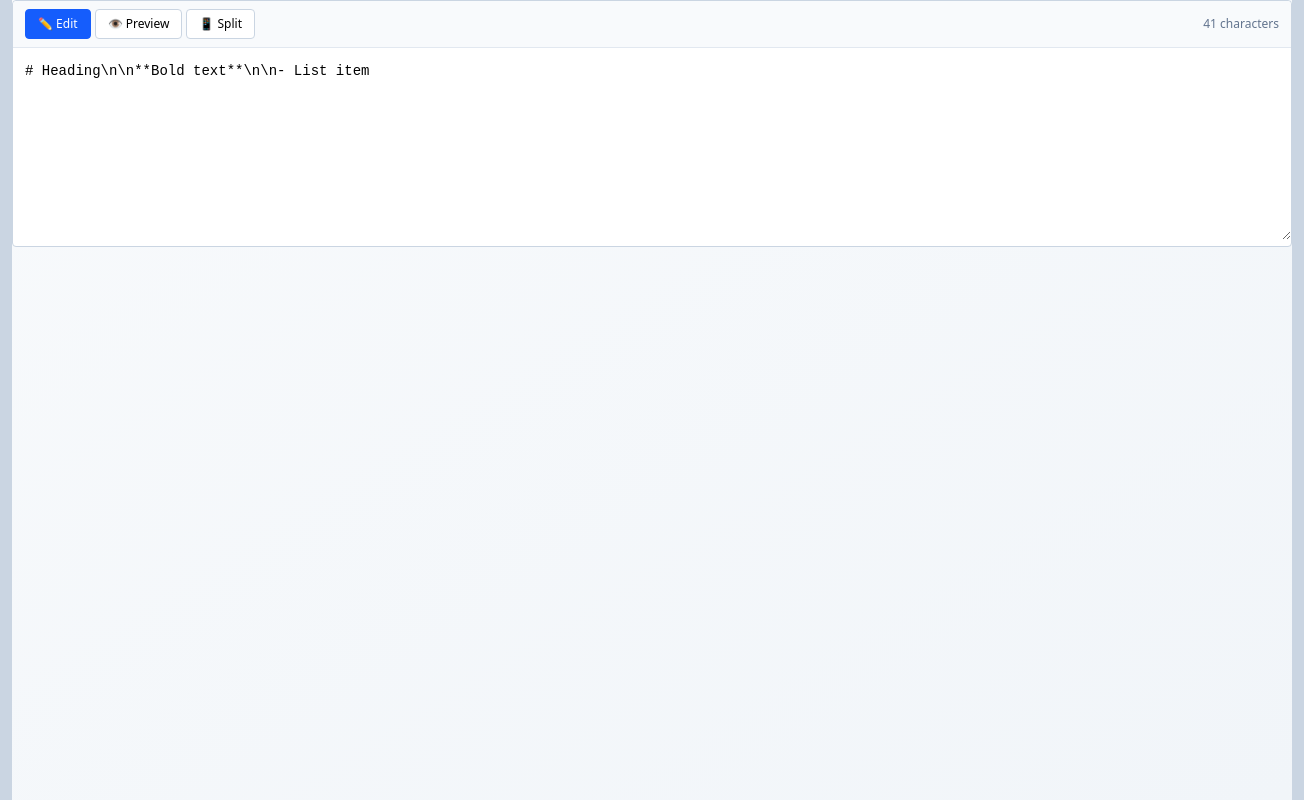
Test: MemoEditor › renders markdown content in preview mode
What coordinates should you click on to do the following:
click the button with aria-label "Preview mode"
I would click on:
 (138, 24)
Its box is [95,9,182,39].
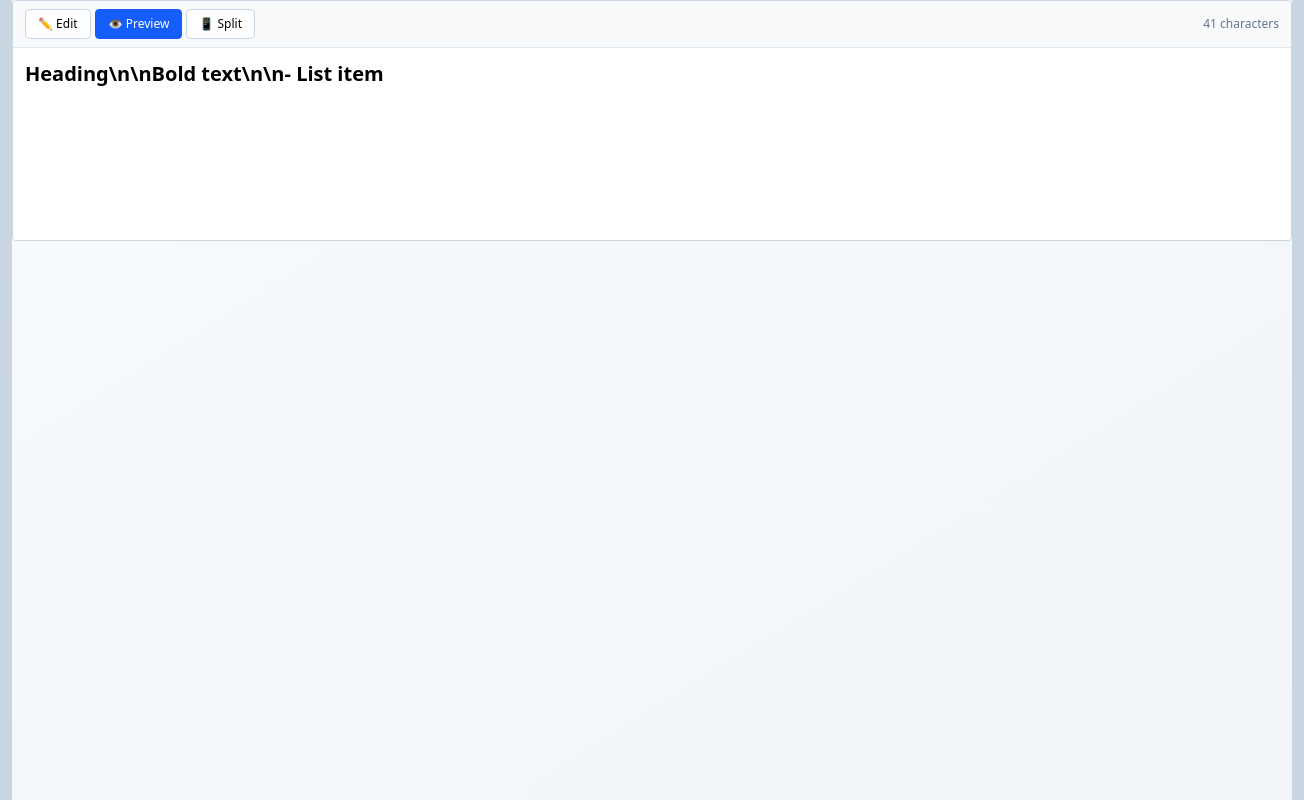
Check: the heading is shown, box [25,60,384,87]
Check: the text "Bold text" is shown, box [152,60,242,87]
Check: the element named "Memo preview" is shown, box [13,48,1291,240]
